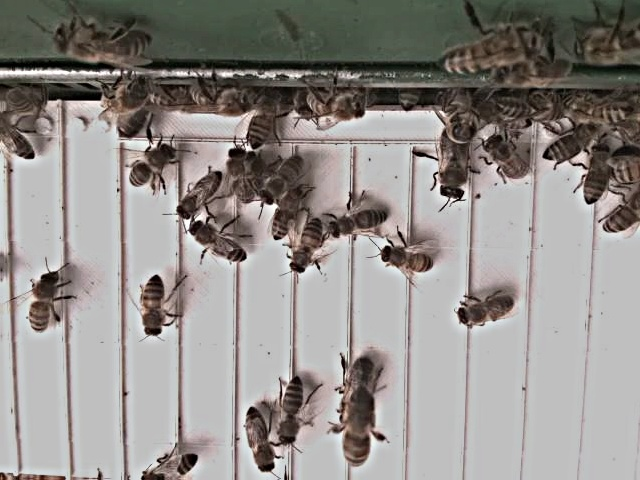Drone: (431, 133, 474, 204)
Worker: (269, 378, 321, 450), (370, 234, 441, 281), (475, 131, 535, 186), (252, 154, 309, 208), (187, 220, 250, 268), (184, 78, 252, 122), (454, 291, 517, 334), (124, 143, 178, 193), (24, 269, 62, 339), (340, 398, 376, 469), (238, 408, 275, 477), (174, 167, 222, 220), (565, 93, 633, 130), (267, 188, 312, 243), (134, 274, 169, 343), (325, 203, 385, 243), (538, 124, 594, 166), (578, 141, 612, 210), (286, 219, 325, 278), (225, 146, 258, 211), (242, 97, 278, 155), (490, 96, 548, 129), (302, 89, 363, 118)
